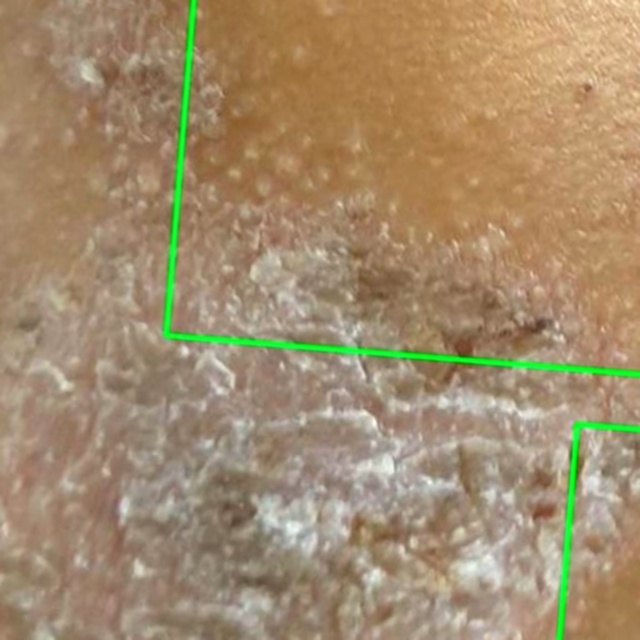Contact Dermatitis: (166, 0, 639, 374)
